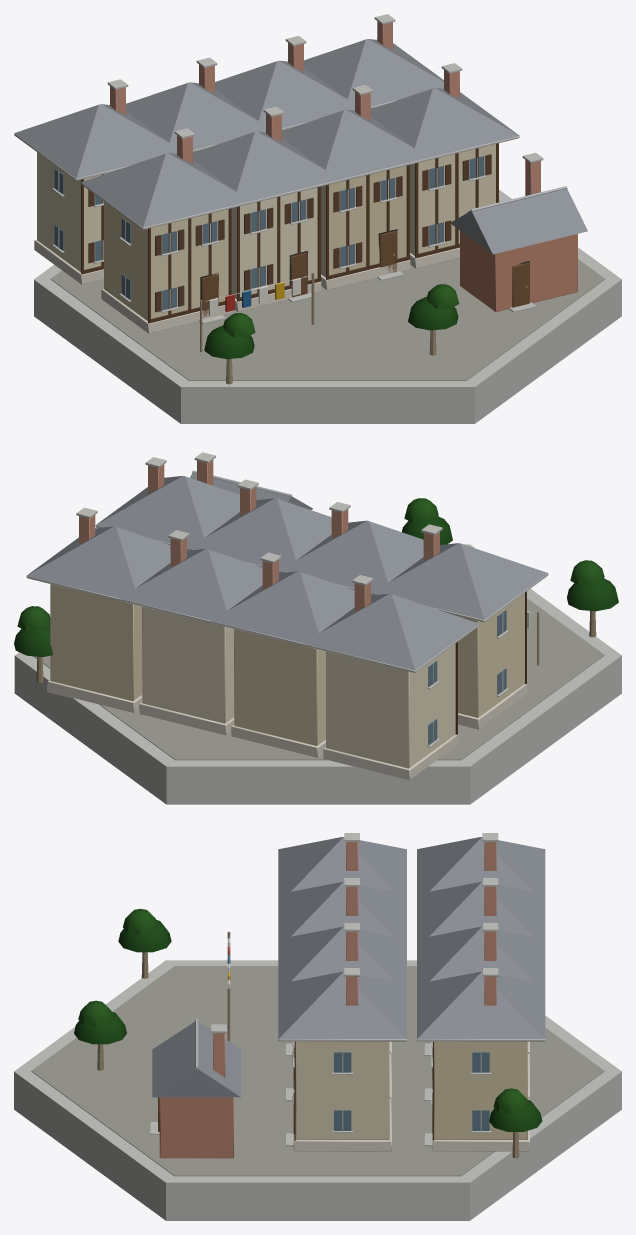
Rendered from workerHouse_asia.glb.
The picture shows the model from 3 angles, top to bottom: view 1: azimuth 30°, elevation 25°; view 2: azimuth 150°, elevation 25°; view 3: azimuth 270°, elevation 25°; orthographic projection. The views are drawn at different scales.
Visible parts, largest first — view 1: roof_slate, wall_concrete, pavers, plaster, wood, brick, glass, stone, leaf, paint; view 2: roof_slate, plaster, wall_concrete, pavers, stone, leaf, brick, wood, glass; view 3: roof_slate, pavers, wall_concrete, plaster, brick, leaf, stone, glass, wood.
Part boxes in pixels (<box>): roof_slate: <box>14,39,587,254</box>; wall_concrete: <box>14,14,621,423</box>; pavers: <box>50,201,605,380</box>; plaster: <box>37,130,495,320</box>; wood: <box>81,143,529,384</box>; brick: <box>110,21,577,311</box>; glass: <box>54,156,484,310</box>; stone: <box>34,240,459,333</box>; leaf: <box>204,284,459,359</box>; paint: <box>205,276,308,315</box>; roof_slate: <box>26,473,548,670</box>; plaster: <box>50,550,524,768</box>; wall_concrete: <box>14,452,621,804</box>; pavers: <box>33,598,604,760</box>; stone: <box>47,680,527,779</box>; leaf: <box>14,498,618,656</box>; brick: <box>79,460,439,611</box>; wood: <box>36,591,596,734</box>; glass: <box>428,610,506,745</box>; roof_slate: <box>152,837,545,1097</box>; pavers: <box>31,966,604,1176</box>; wall_concrete: <box>14,833,621,1220</box>; plaster: <box>295,1041,527,1139</box>; brick: <box>159,842,496,1158</box>; leaf: <box>74,908,542,1131</box>; stone: <box>293,1041,529,1151</box>; glass: <box>334,1052,489,1130</box>; wood: <box>97,931,519,1158</box>.
Size of the model in its own units: 21.3 by 9.35 by 24.6.
